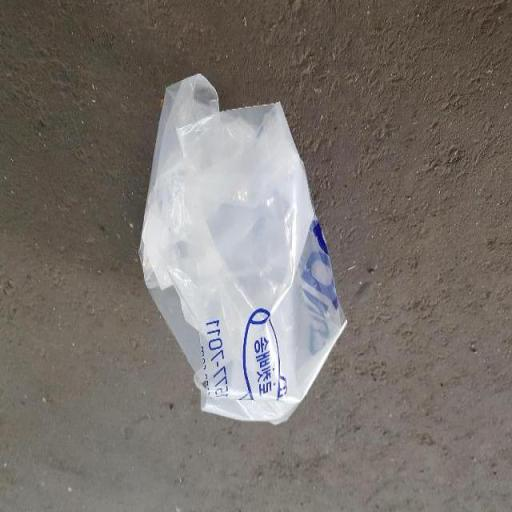plastic-bag: (134, 85, 346, 428)
